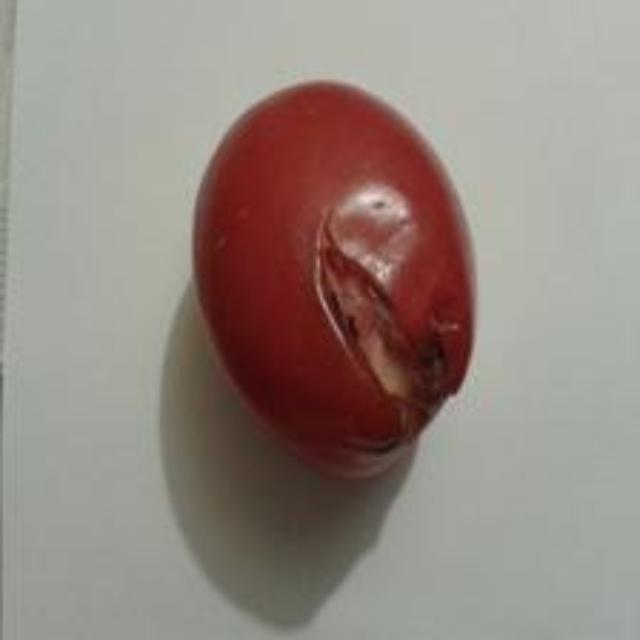defect: (193, 73, 480, 485)
